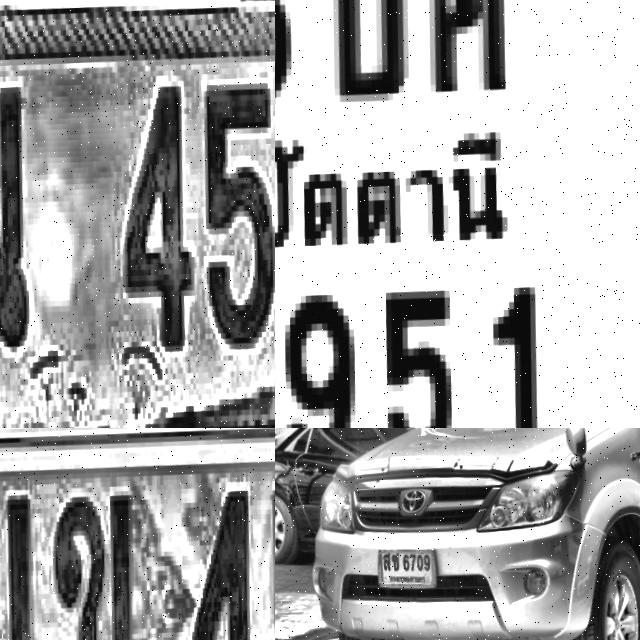license-plate: (275, 0, 640, 428), (0, 0, 275, 428), (0, 428, 275, 640), (377, 546, 442, 587)
